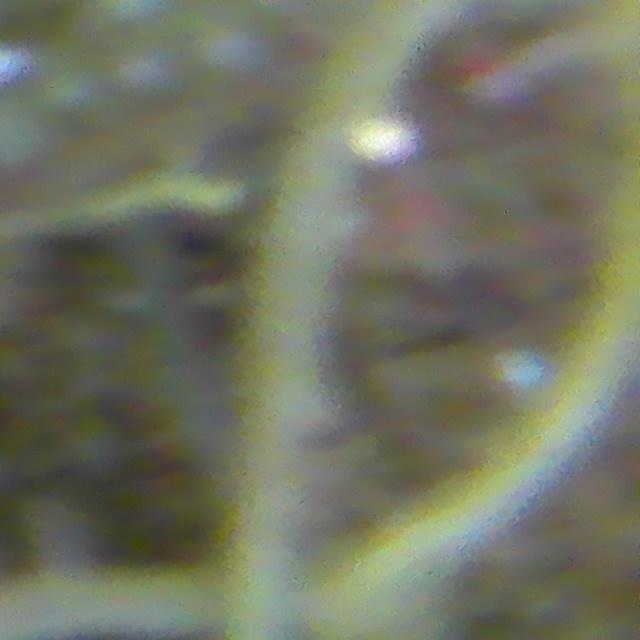SeaGrape: (110, 36, 182, 107), (195, 18, 267, 82)
